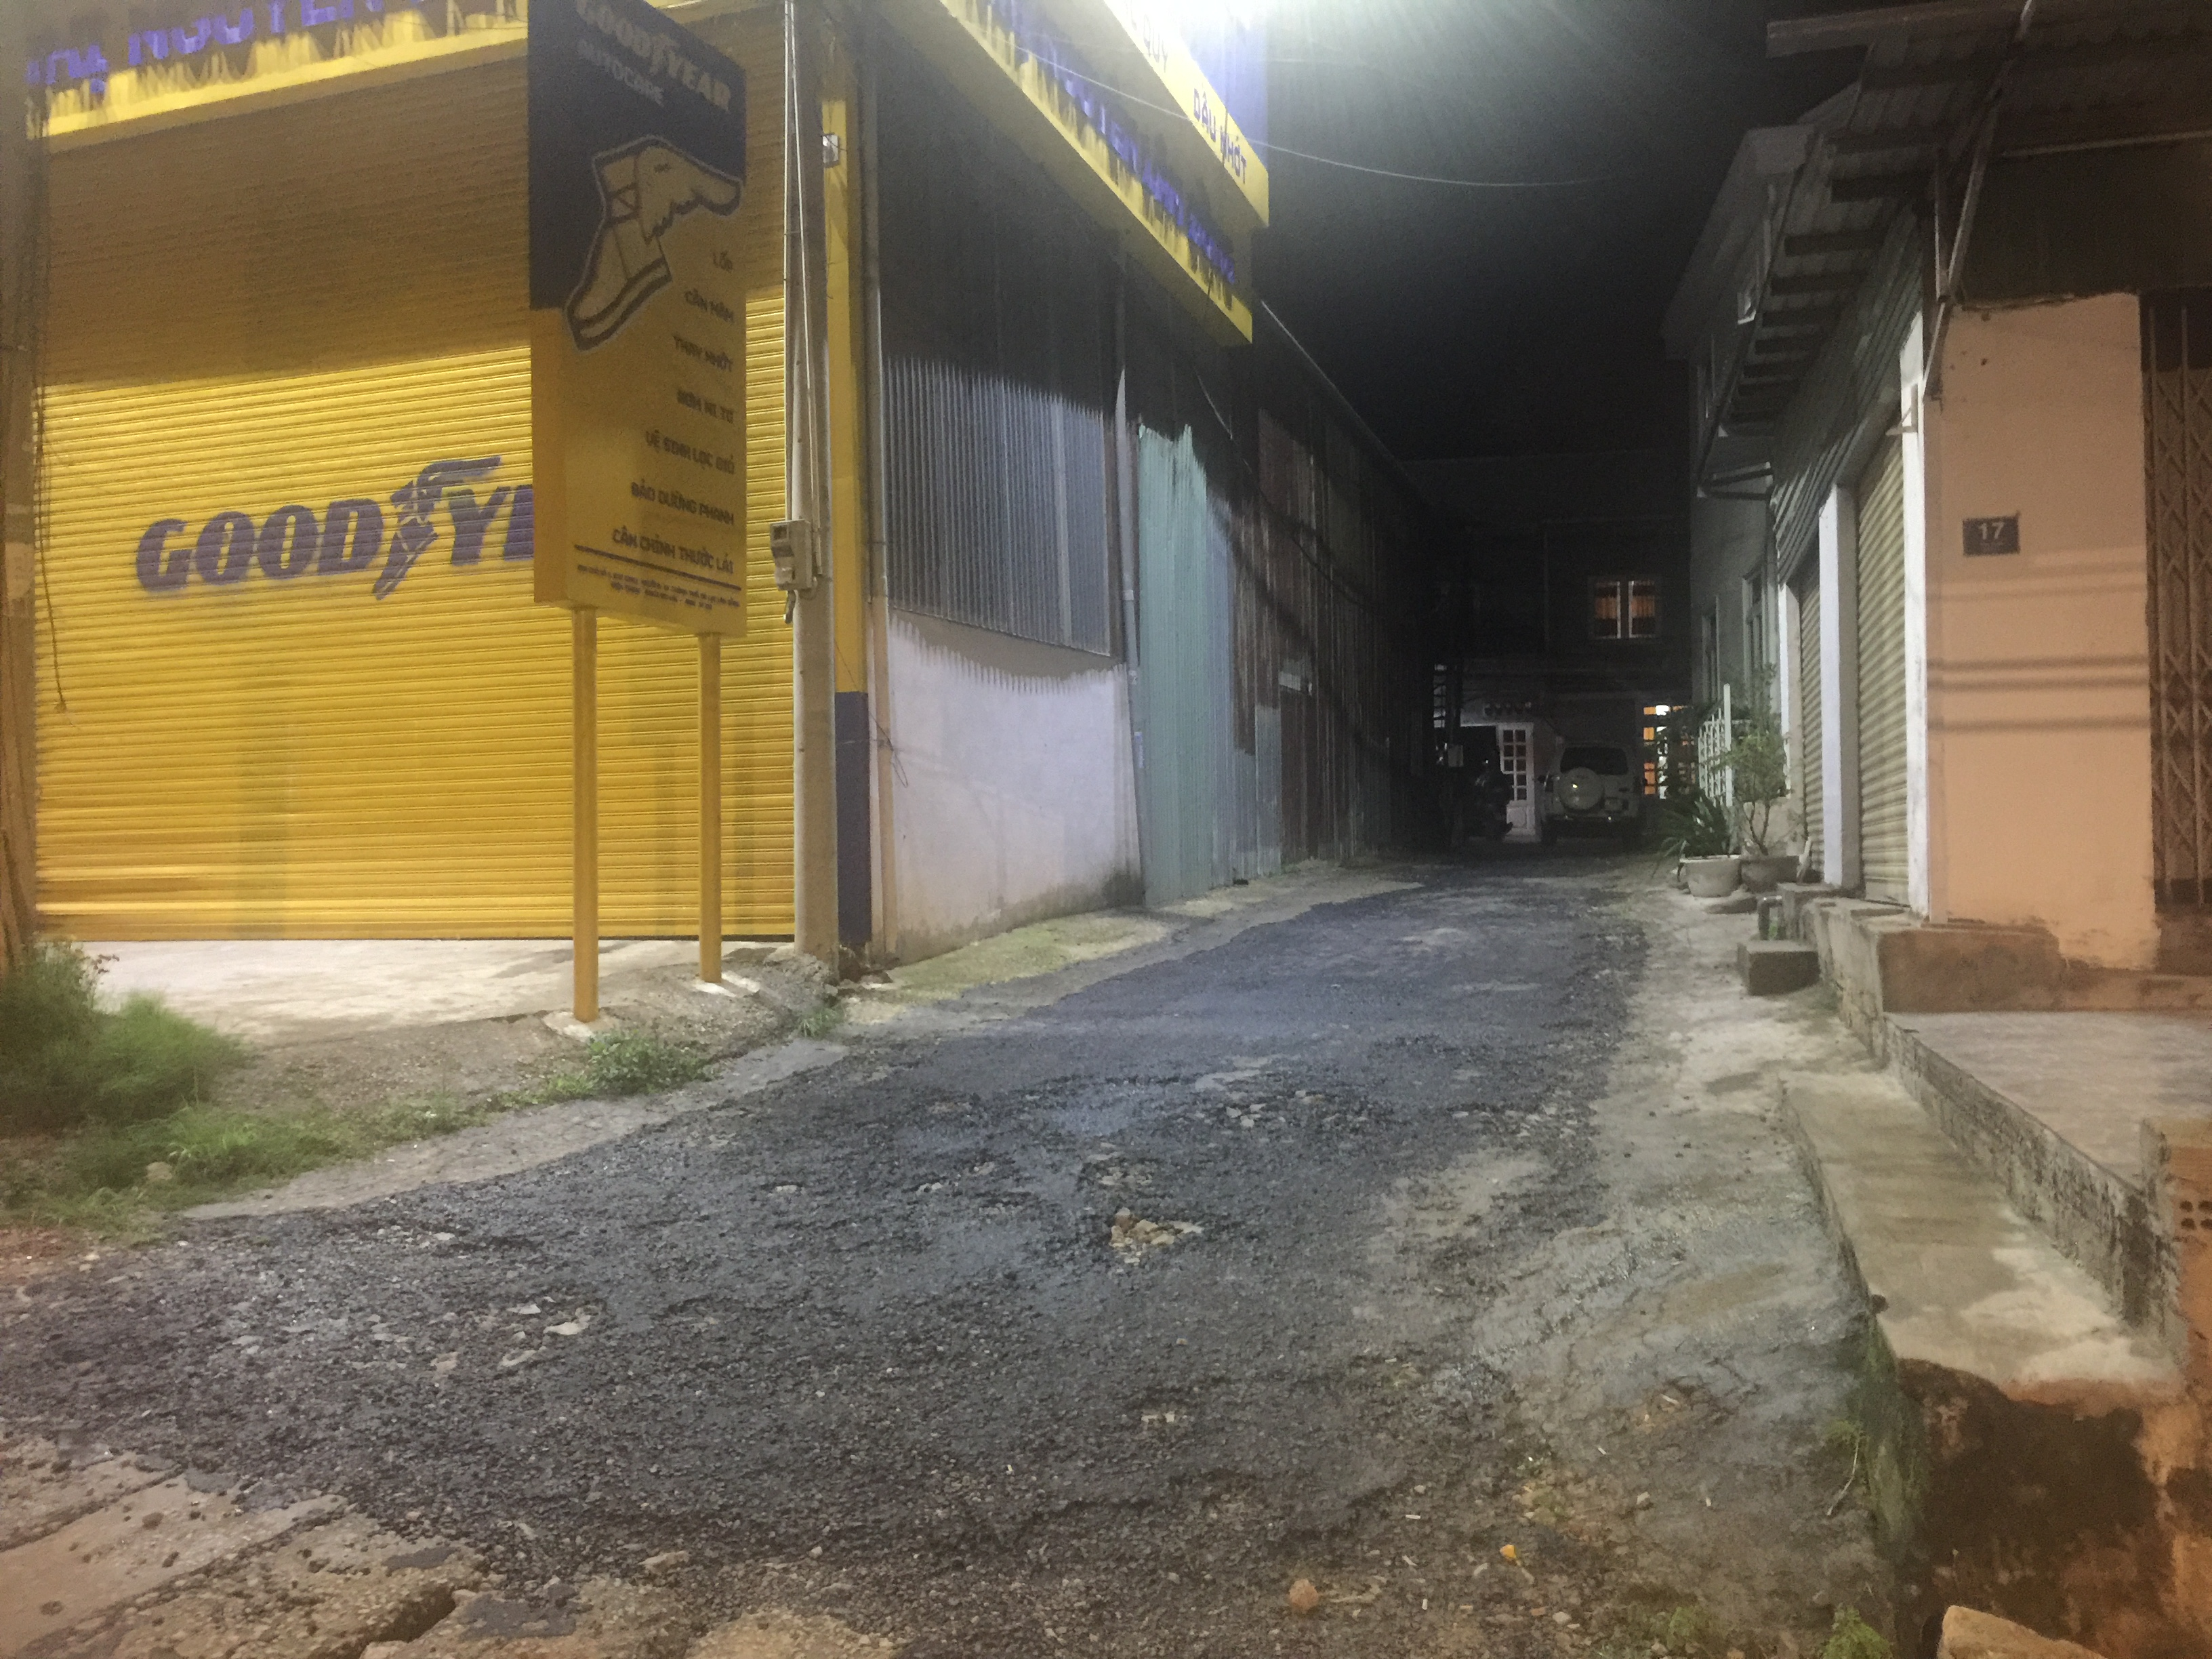hole: (1336, 1344, 1517, 1554), (1000, 1460, 1306, 1561), (319, 1284, 624, 1380), (329, 1211, 552, 1262), (1075, 1204, 1219, 1274), (1106, 1377, 1247, 1429), (651, 1290, 777, 1335), (1014, 1070, 1176, 1103), (1071, 1150, 1174, 1194), (1440, 1101, 1536, 1134), (913, 1091, 982, 1117), (763, 1176, 833, 1199), (965, 1152, 1005, 1178), (913, 1171, 946, 1197)
